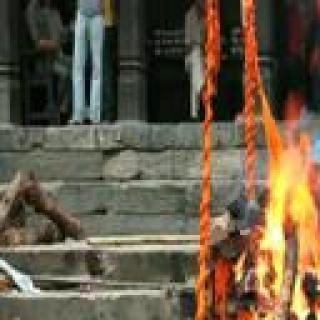fire: (256, 123, 320, 320)
